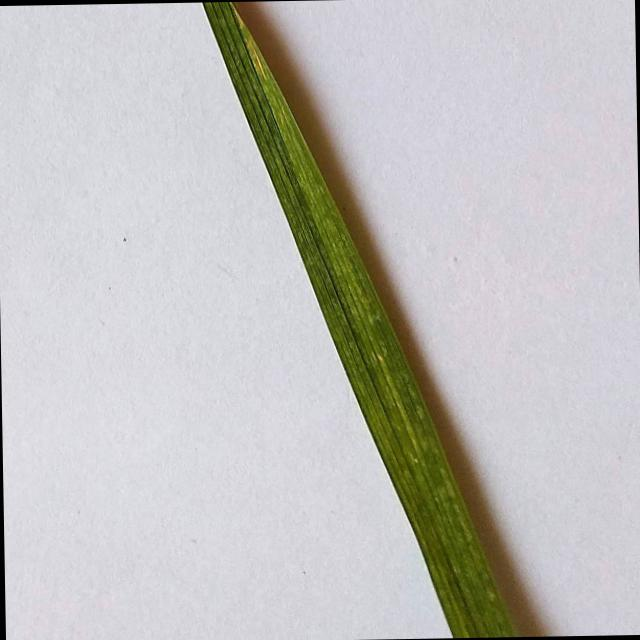Rice_Healthy: (203, 1, 515, 637)
